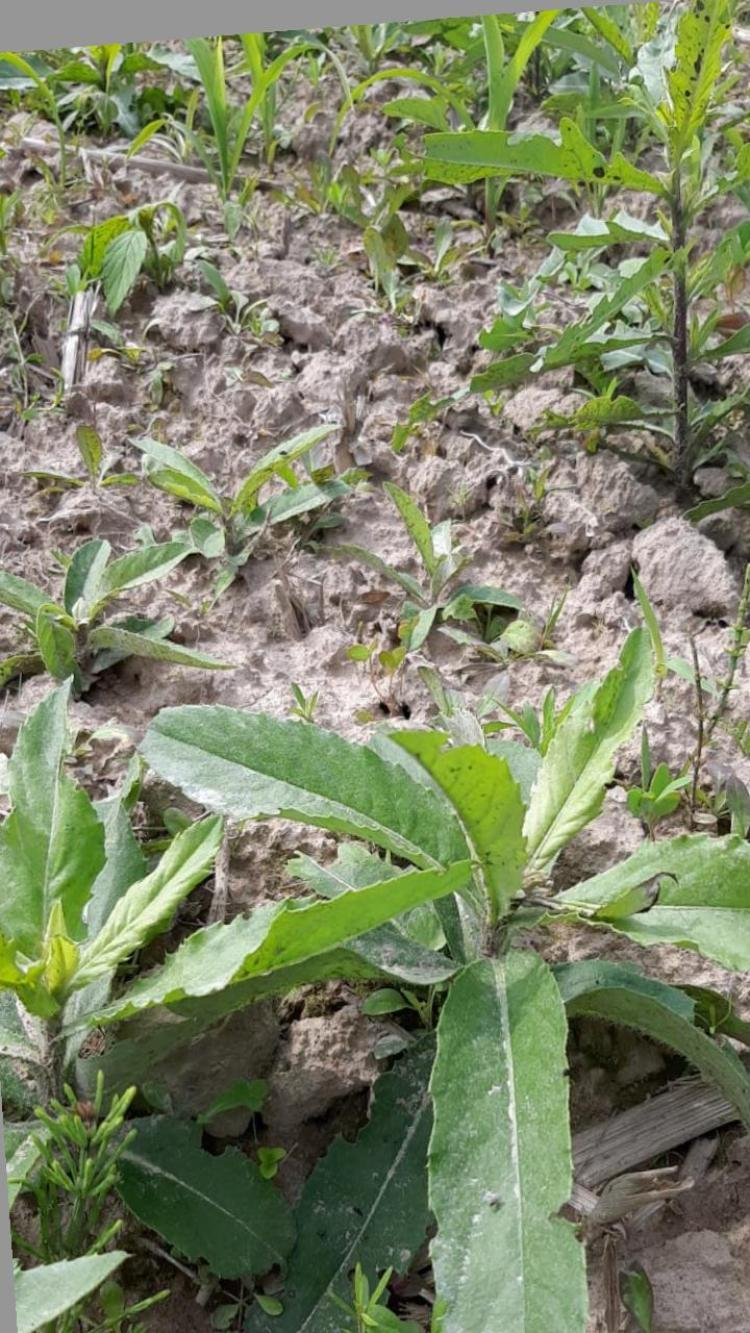osot: (133, 689, 750, 1333)
